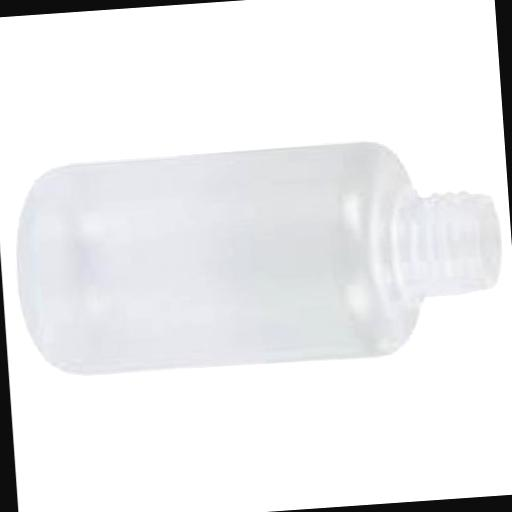plastic: (11, 128, 510, 383)
